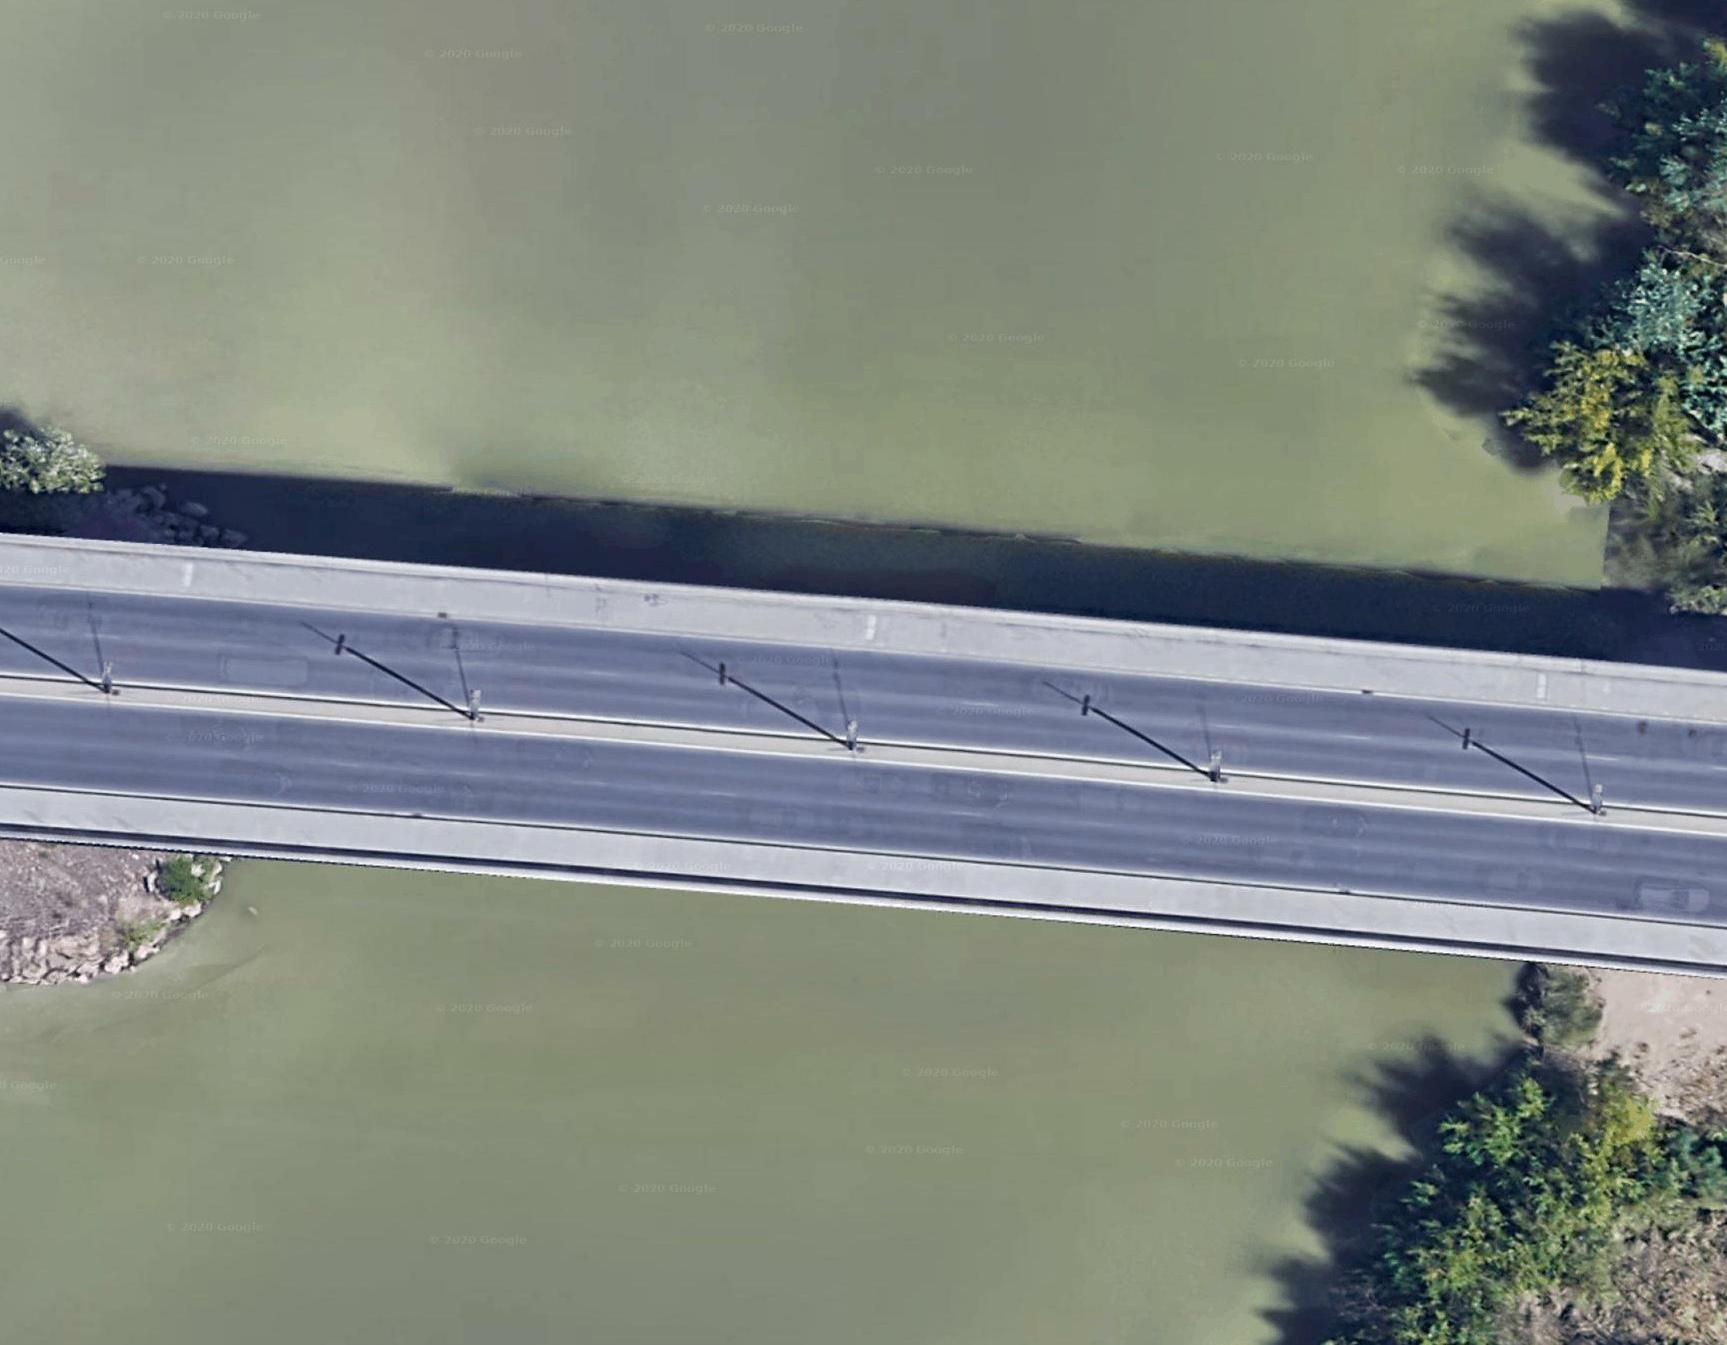bridge: (22, 398, 1700, 1149)
